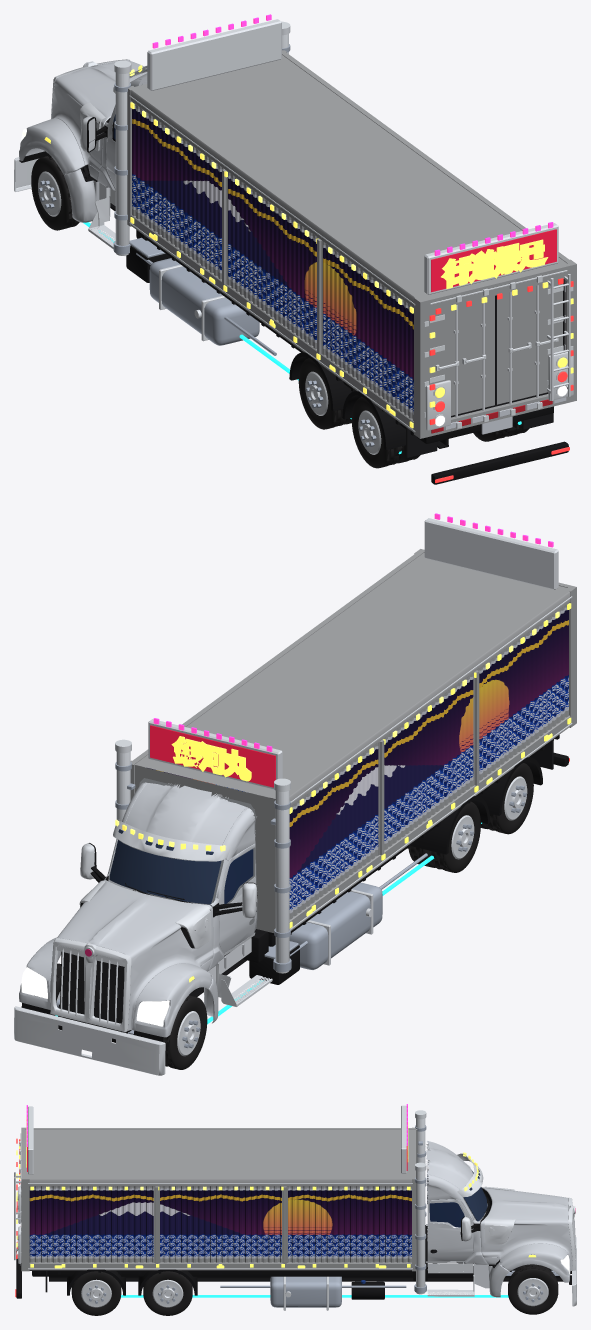
File: dekotora_truck_base_americana.glb
3 views of the same model, one above another, from view 1: azimuth 30°, elevation 25°; view 2: azimuth 150°, elevation 25°; view 3: azimuth 270°, elevation 25° (orthographic). The views are drawn at different scales.
Visible parts, largest first — view 1: truck_paint_white_box, truck_mural, truck_chrome, truck_box_metal, truck_paint_white_panel, truck_plastic_black, truck_steel, truck_lamp_amber, wheel_f_L, wheel_r_L_1.5_1.06, wheel_r_L_3.0_1.06, truck_andon_panel (+4 smaller); view 2: truck_paint_white_box, truck_mural, truck_chrome, truck_paint_white_panel, truck_box_metal, truck_plastic_black, truck_steel, truck_glass_wind, truck_lamp_amber, truck_andon_panel, wheel_f_L, wheel_r_L_3.0_1.06 (+4 smaller); view 3: truck_mural, truck_paint_white_box, truck_paint_white_panel, truck_box_metal, truck_chrome, truck_plastic_black, truck_steel, wheel_f_R, wheel_r_R_1.5_1.06, wheel_r_R_3.0_1.06, truck_lamp_amber, truck_glass (+3 smaller).
Part boxes in pixels (x1,y1,x2,y2): truck_paint_white_box: (132,55,566,420); truck_mural: (132,106,413,414); truck_chrome: (14,19,573,431); truck_box_metal: (127,50,576,438); truck_paint_white_panel: (19,60,147,222); truck_plastic_black: (19,117,568,484); truck_steel: (77,44,290,355); truck_lamp_amber: (44,65,573,428); wheel_f_L: (31,155,79,230); wheel_r_L_1.5_1.06: (351,397,403,468); wheel_r_L_3.0_1.06: (298,358,347,429); truck_andon_panel: (431,229,556,292); truck_paint_white_box: (135,553,568,932); truck_mural: (145,607,568,913); truck_chrome: (14,518,572,1075); truck_paint_white_panel: (19,778,257,1037); truck_box_metal: (130,549,576,930); truck_plastic_black: (21,735,568,1042); truck_steel: (56,762,427,1034); truck_glass_wind: (109,829,221,904); truck_lamp_amber: (122,603,571,982); truck_andon_panel: (150,725,275,787); wheel_f_L: (163,995,207,1069); wheel_r_L_3.0_1.06: (429,801,480,872); truck_mural: (29,1188,411,1258); truck_paint_white_box: (25,1130,415,1262); truck_paint_white_panel: (425,1141,572,1297); truck_box_metal: (21,1127,417,1271); truck_chrome: (14,1105,576,1310); truck_plastic_black: (16,1169,571,1299); truck_steel: (220,1125,558,1307); wheel_f_R: (508,1264,558,1314); wheel_r_R_1.5_1.06: (71,1271,121,1315); wheel_r_R_3.0_1.06: (143,1271,192,1315); truck_lamp_amber: (16,1117,535,1268); truck_glass: (427,1172,464,1227).
Size of the model in its own units: 2.85 by 3.91 by 11.81.
22 materials, 6 textured.
